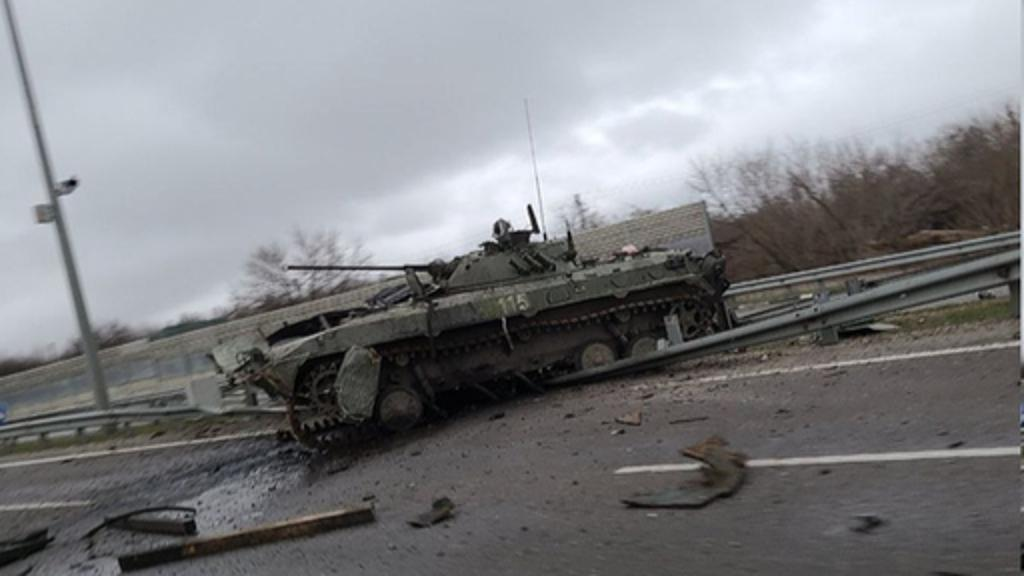APC-IFV: (212, 226, 730, 440)
